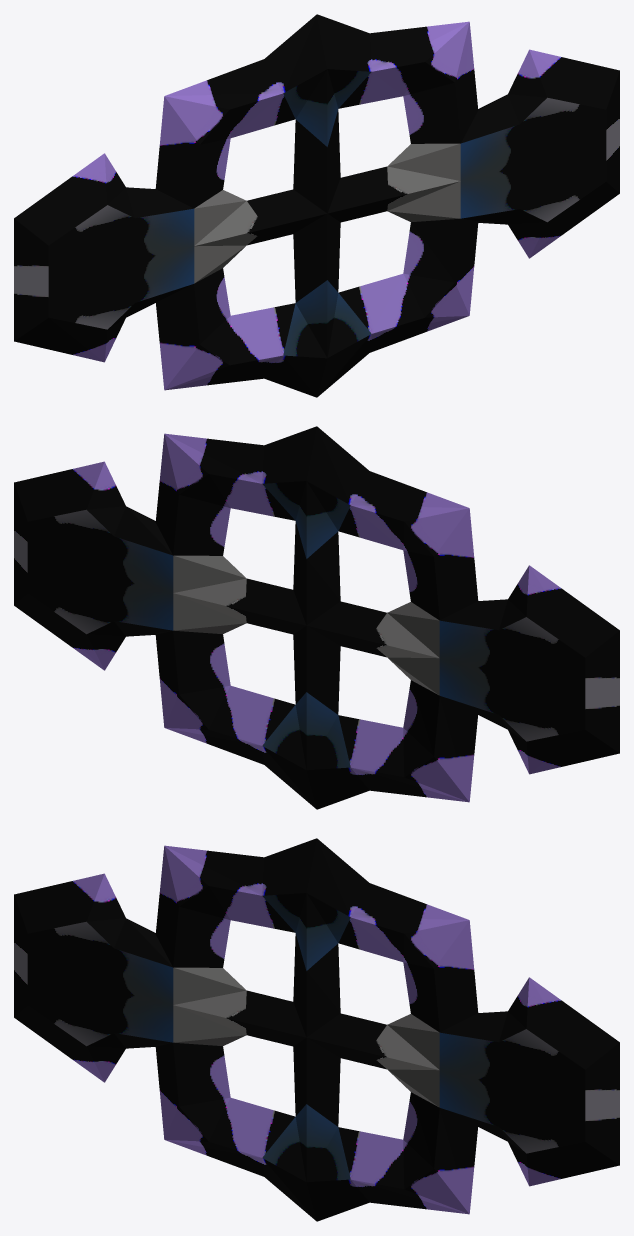
Rendered from doubleedge.obj.
3 renders of one model, top to bottom at view 1: azimuth 30°, elevation 25°; view 2: azimuth 150°, elevation 25°; view 3: azimuth 330°, elevation 25°, orthographic.
Bounding box in the file's own units: 100 × 60.48 × 6.
